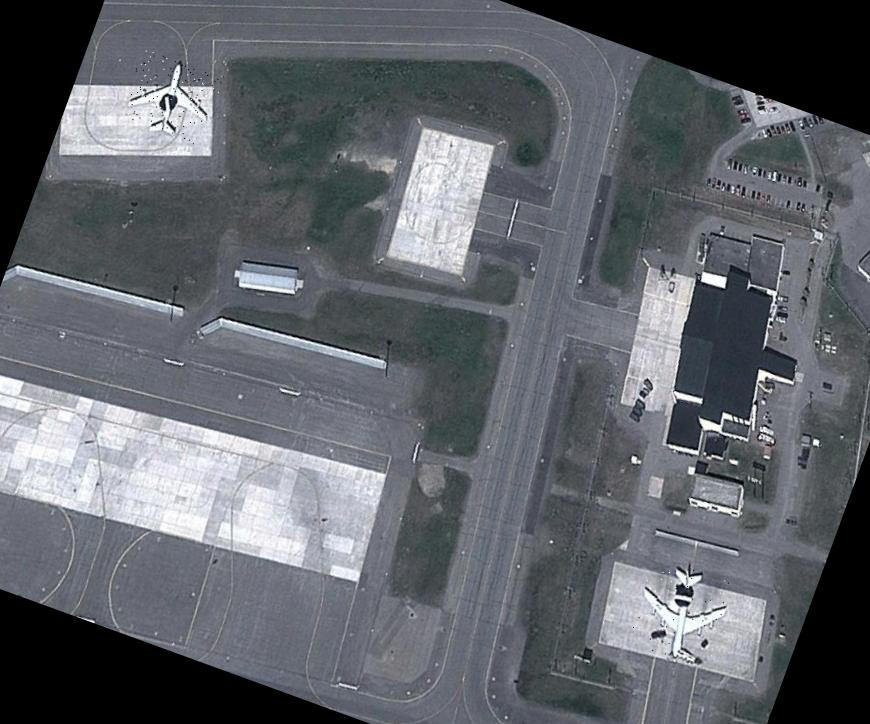A7: (623, 553, 738, 670), (118, 46, 224, 147)
